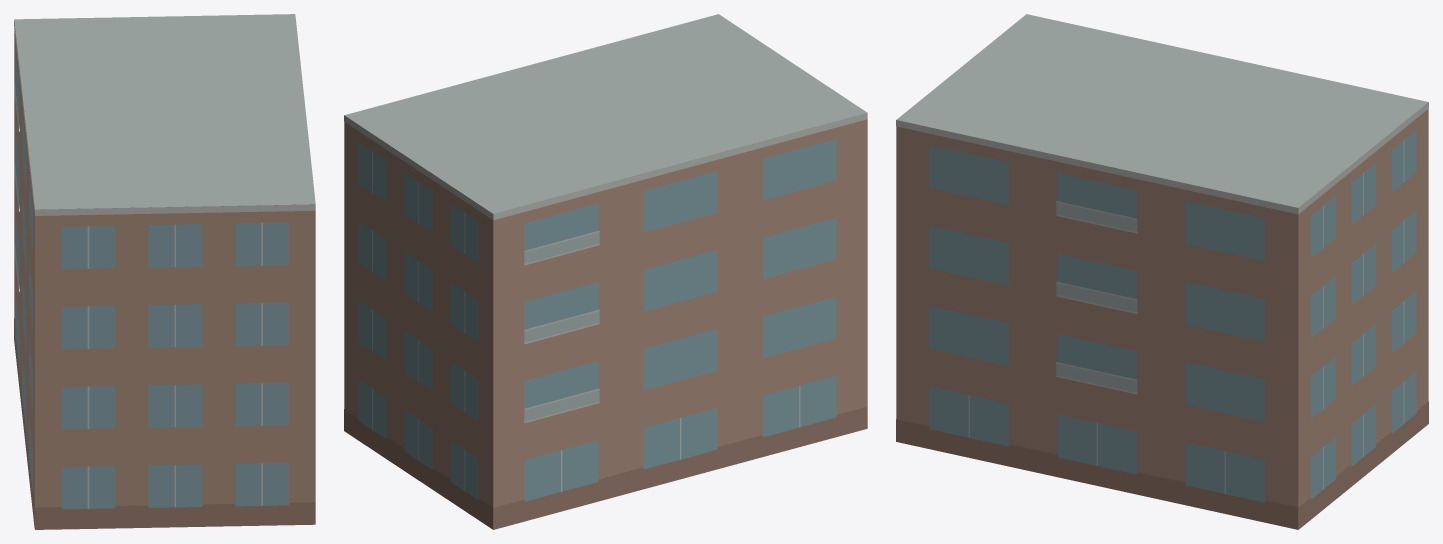
File: survey-upis-32591633.glb
3 renders of one model, left to right at view 1: azimuth 30°, elevation 25°; view 2: azimuth 150°, elevation 25°; view 3: azimuth 270°, elevation 25°, orthographic.
Parts seen in each view (by area): view 1: survey-upis-32591633.tmp; view 2: survey-upis-32591633.tmp; view 3: survey-upis-32591633.tmp.
Boxes of the visible parts, x1,y1,x2,y2 form: survey-upis-32591633.tmp: (14, 14, 315, 529); survey-upis-32591633.tmp: (344, 14, 867, 529); survey-upis-32591633.tmp: (896, 14, 1428, 529).
Bounding box in the file's own units: 15.78 × 12.2 × 18.31.
